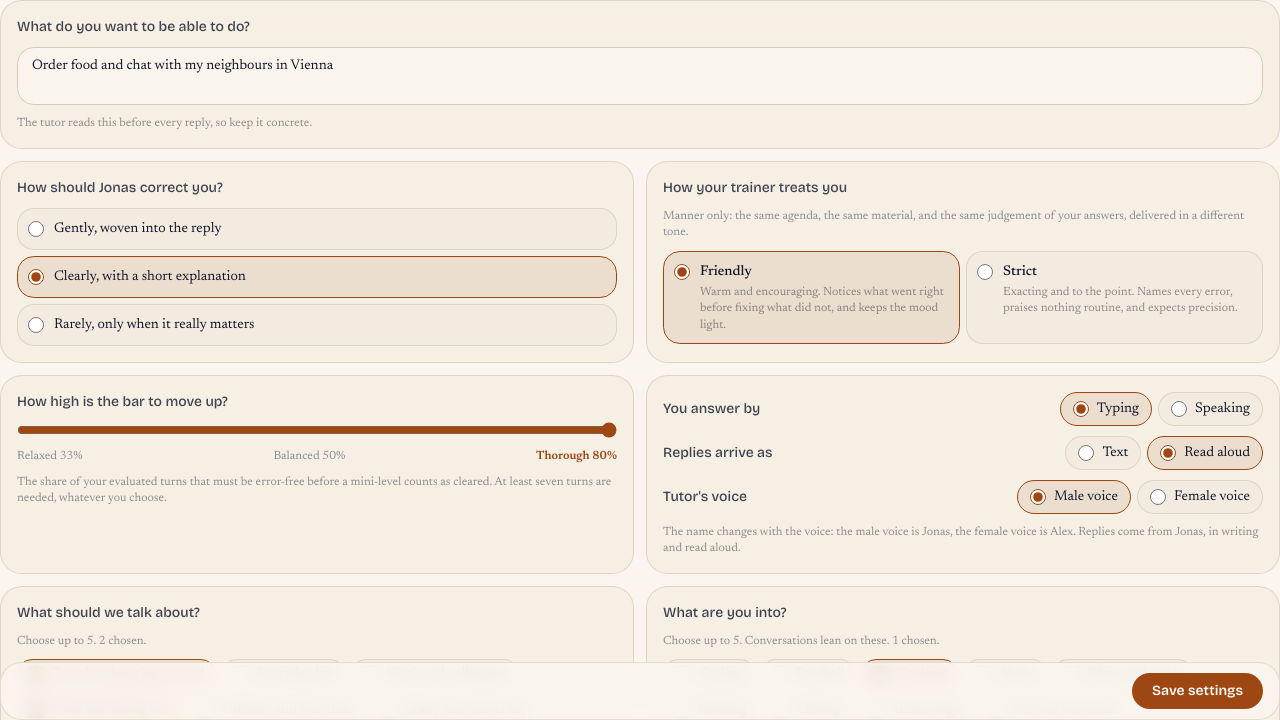
Test: saving › keeps the chosen correction style on screen after a save
Click the radio button labelled "Gently, woven into the reply". click: click(36, 228)
box: [28, 220, 44, 236]
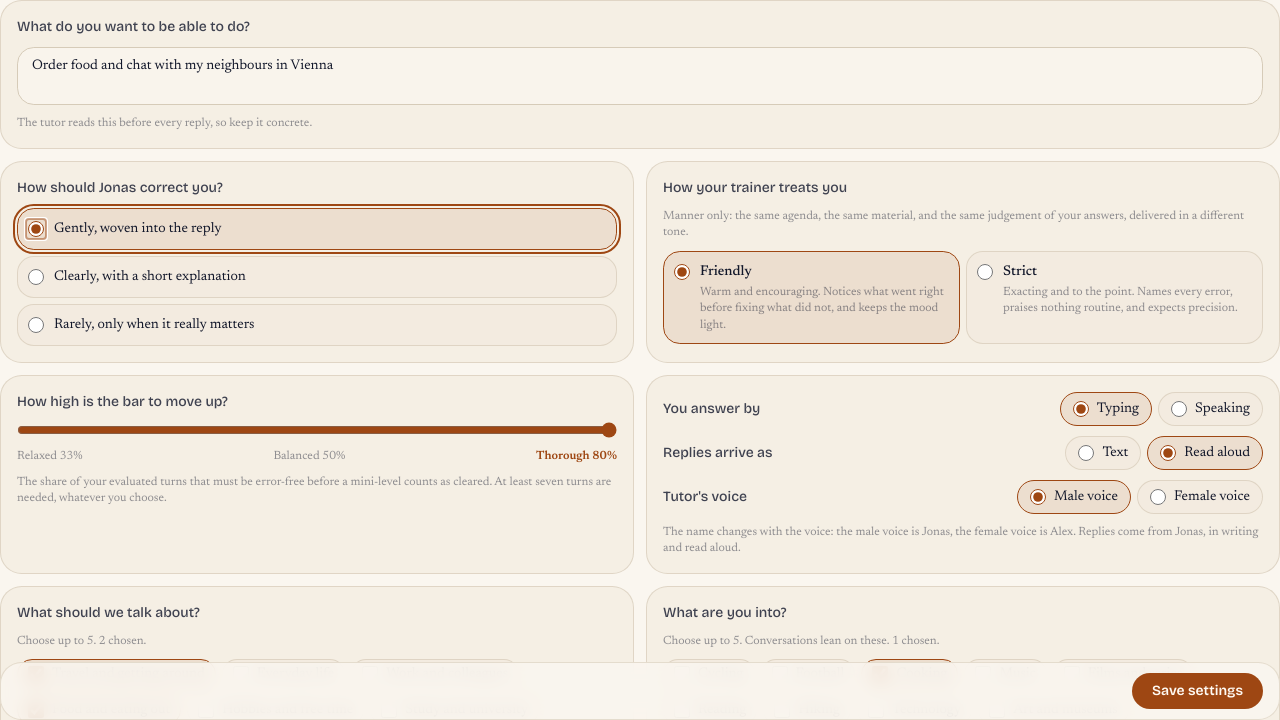
Click the button "Save settings". click: click(1198, 691)
box: [1132, 673, 1263, 709]
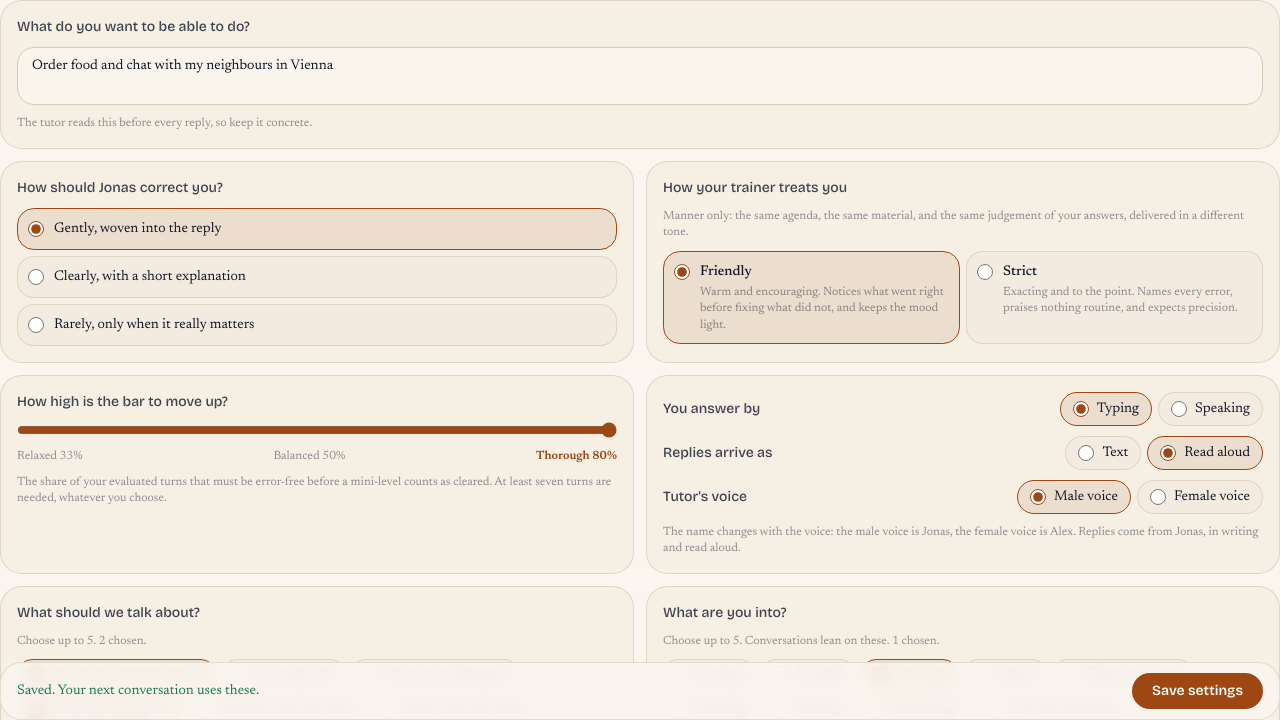
Now the radio button labelled "Gently, woven into the reply" is checked, box [28, 220, 44, 236]
Now the radio button labelled "Clearly, with a short explanation" is not checked, box [28, 268, 44, 284]
Now the message shows "Saved", box [17, 684, 259, 698]
